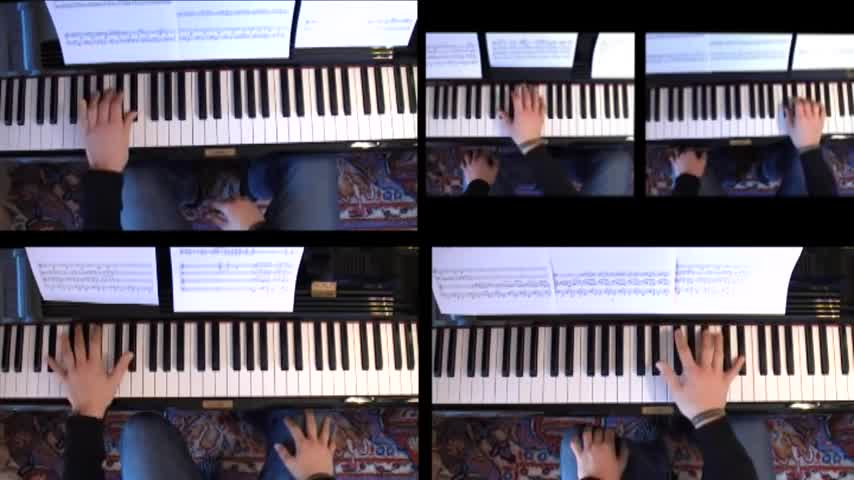left: (45, 322, 138, 411), (74, 85, 140, 167), (569, 422, 630, 480), (462, 146, 500, 190), (665, 146, 711, 182)
right: (653, 324, 745, 422), (273, 409, 340, 479), (499, 84, 546, 145), (782, 94, 825, 158), (209, 192, 263, 231)
